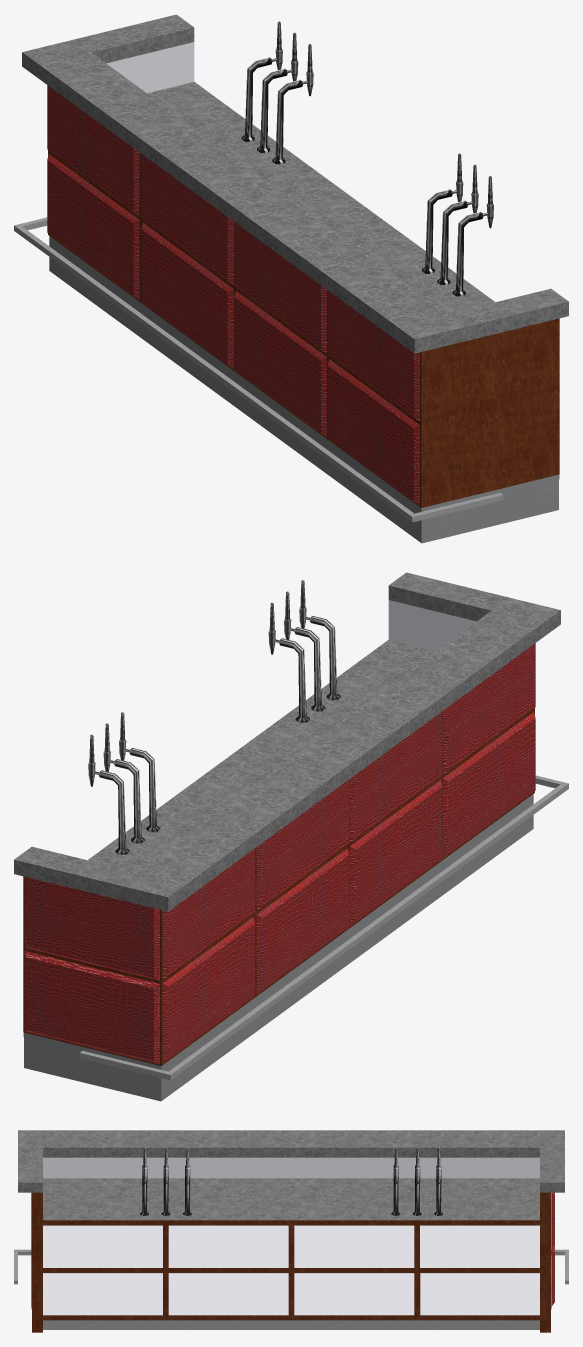
Rendered from Bar1.fbx.
3 renders of one model, top to bottom at view 1: azimuth 30°, elevation 25°; view 2: azimuth 150°, elevation 25°; view 3: azimuth 270°, elevation 25°, orthographic. The views are drawn at different scales.
Parts seen in each view (by area): view 1: Empty_Mesh; view 2: Empty_Mesh; view 3: Empty_Mesh.
Part boxes in pixels (x1,y1,x2,y2): Empty_Mesh: (14,14,568,543); Empty_Mesh: (14,572,568,1101); Empty_Mesh: (14,1130,568,1332).
Size of the model in its own units: 102 by 151 by 402.
